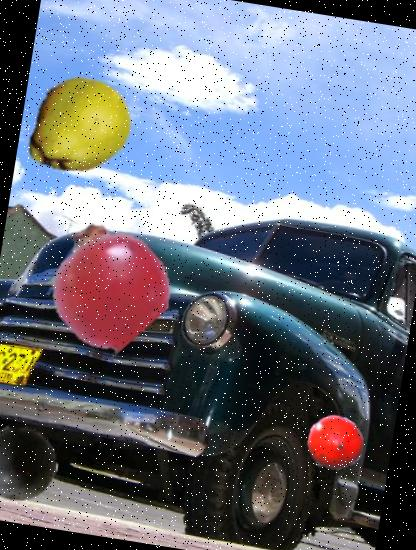Kaki: (302, 412, 368, 478)
Plum: (0, 416, 64, 511)
Quince: (16, 66, 140, 190)
Redcurrant: (36, 213, 176, 353)
